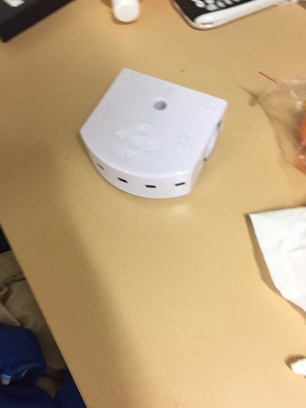thymio: (76, 65, 227, 201)
